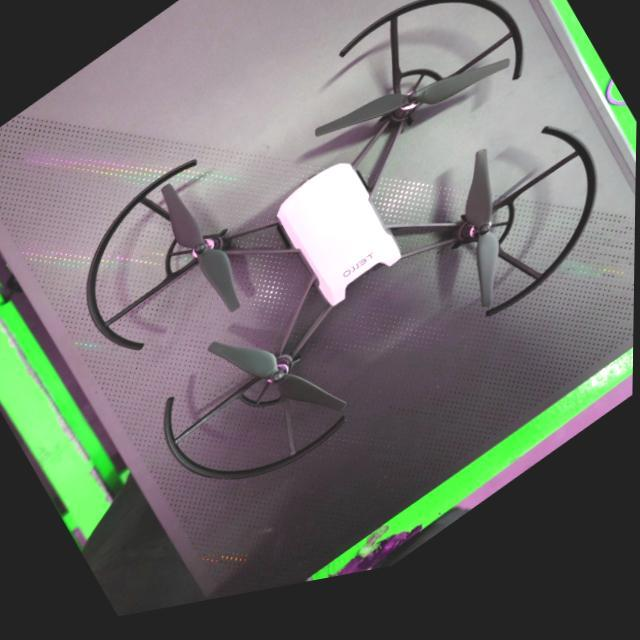drone: (80, 3, 606, 494)
